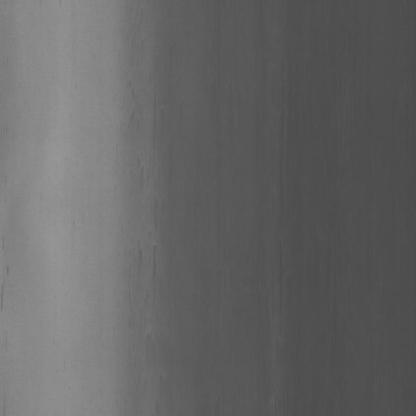silk_spot: (114, 65, 177, 380)
